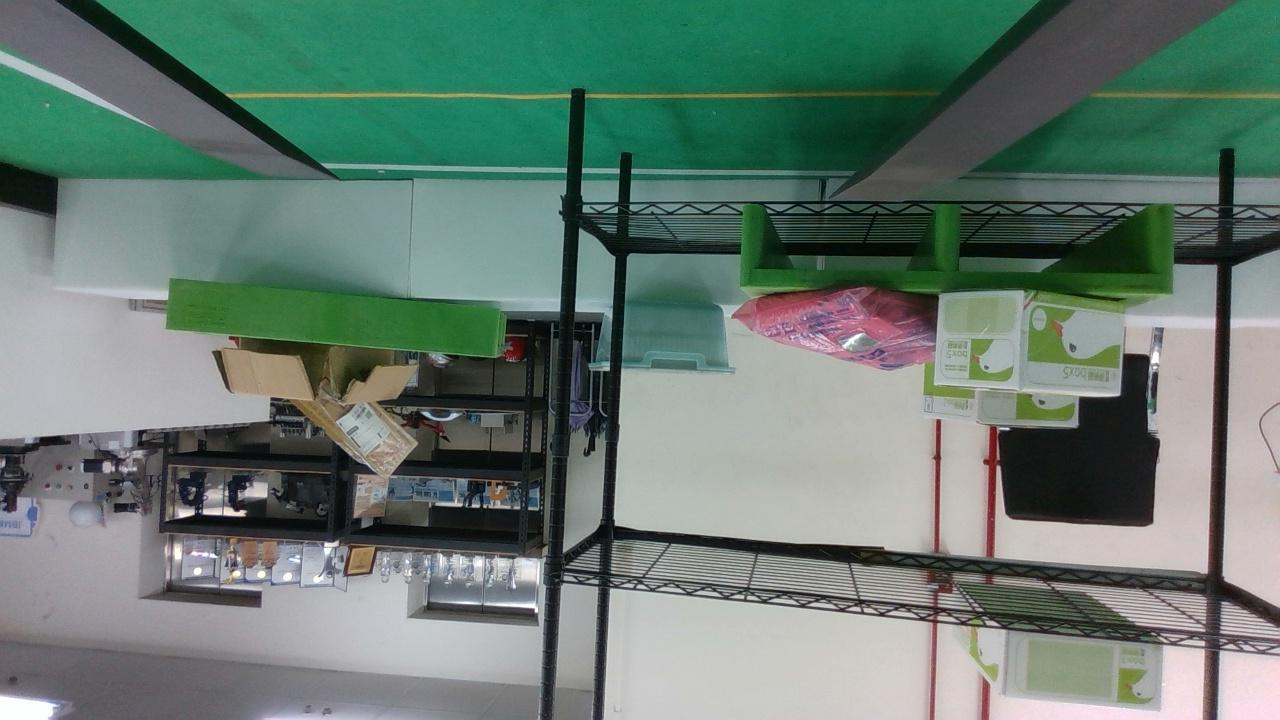Pallet: (738, 204, 1174, 298)
